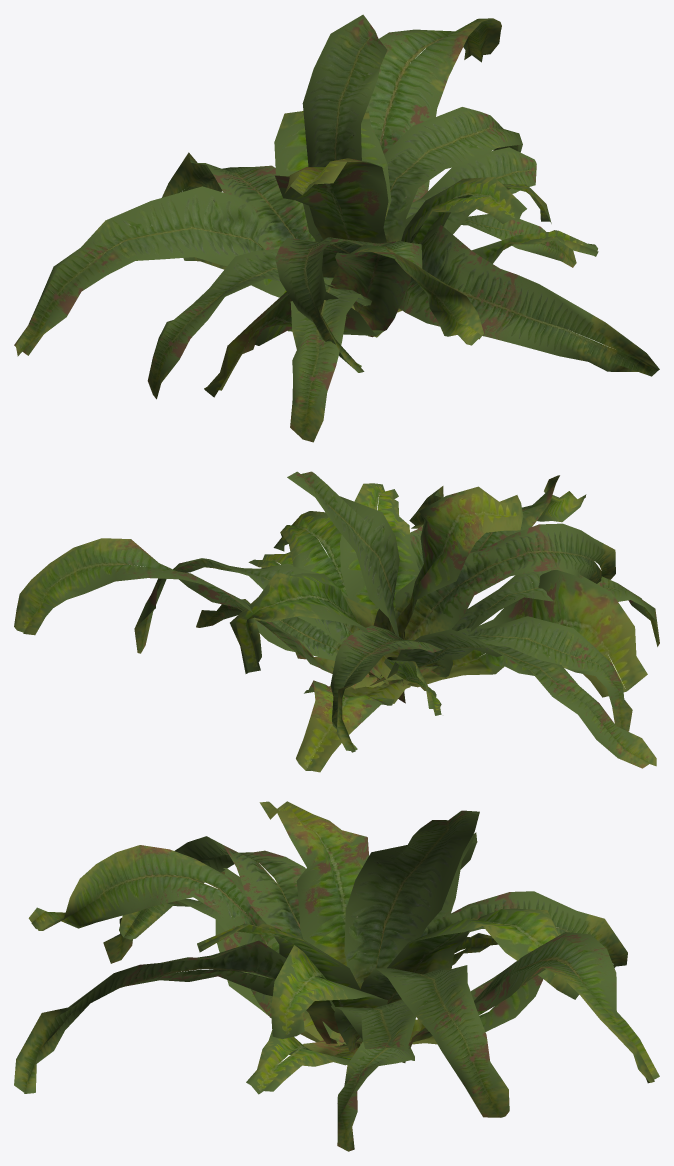
The model's file is fern_02.gltf.
3 renders of one model, top to bottom at view 1: azimuth 30°, elevation 25°; view 2: azimuth 150°, elevation 25°; view 3: azimuth 270°, elevation 25°, orthographic. The views are drawn at different scales.
Parts seen in each view (by area): view 1: fern_02; view 2: fern_02; view 3: fern_02.
Part boxes in pixels (left/top/right/bottom): fern_02: left=14, top=14, right=659, bottom=442; fern_02: left=14, top=471, right=659, bottom=772; fern_02: left=14, top=801, right=659, bottom=1151.
Bounding box in the file's own units: 0.9903 × 0.4292 × 0.895.
1 material, 1 textured.
